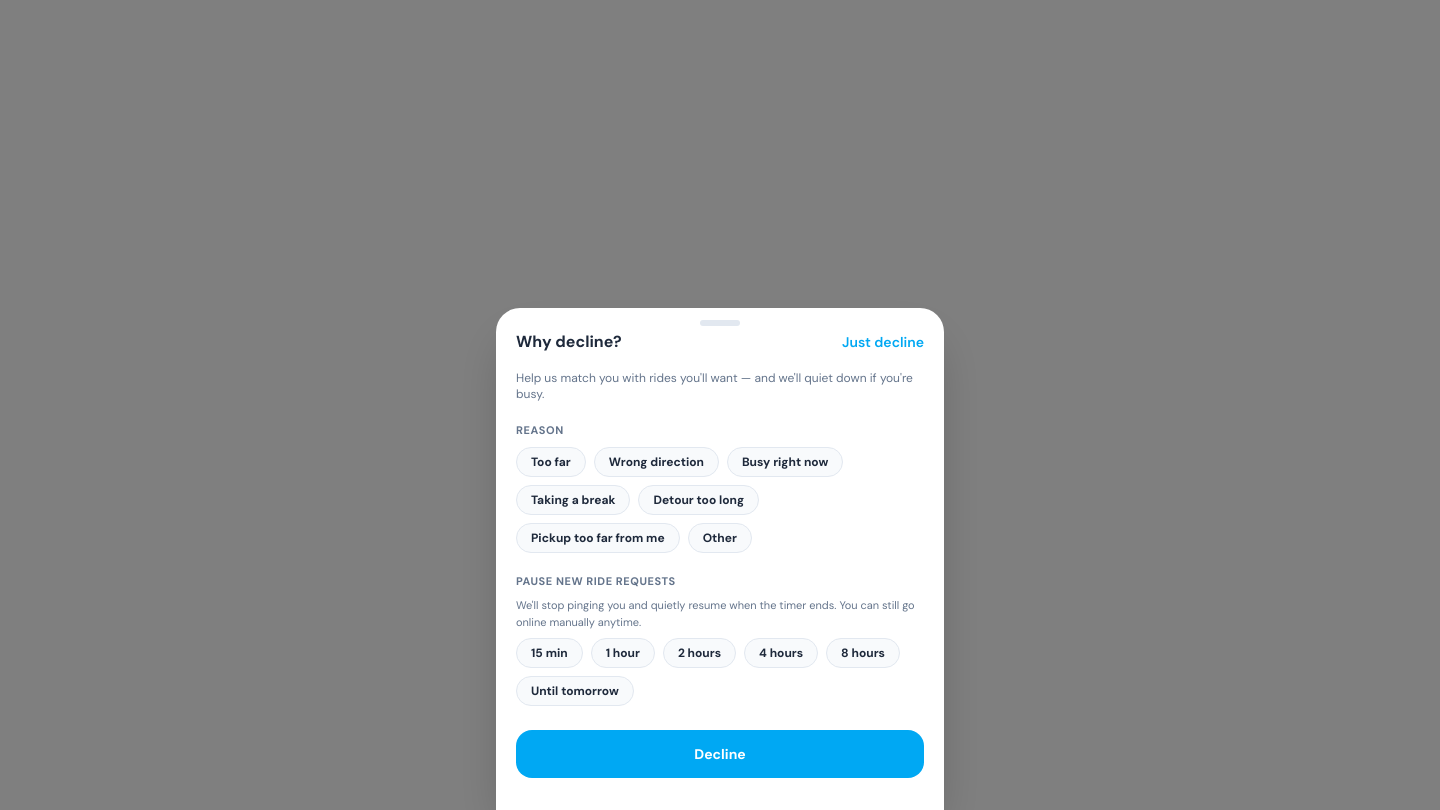
Scenario: DeclineReasonSheet › Submit label changes to "Decline & pause for X" when a snooze is selected
Expected: the button with test id "decline-submit" reads "Decline", left=516, top=730, right=924, bottom=778
Click the button with test id "decline-snooze-240" at (781, 653), box left=744, top=638, right=818, bottom=668
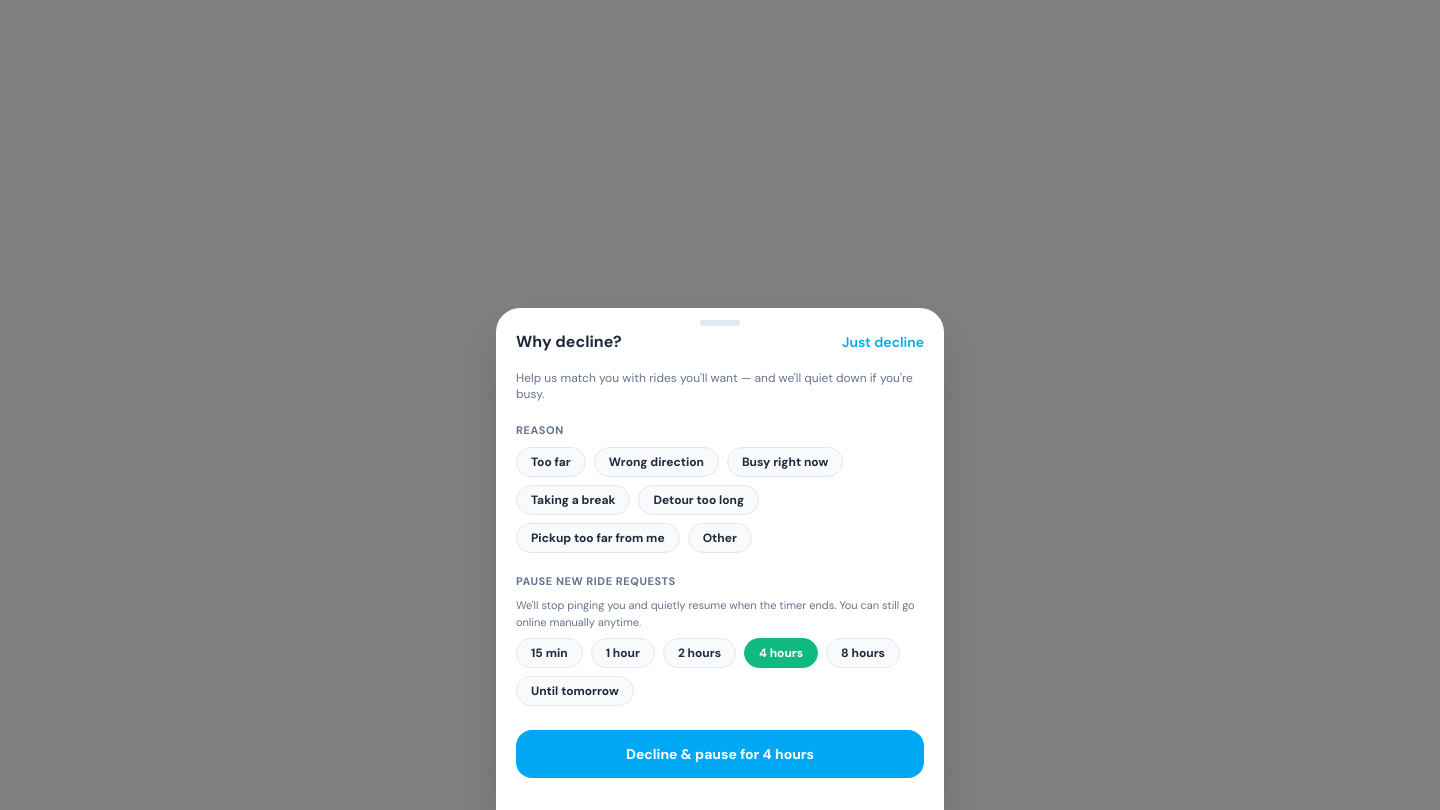
Expected: the button with test id "decline-submit" reads "Decline & pause for 4 hours", left=516, top=730, right=924, bottom=778
